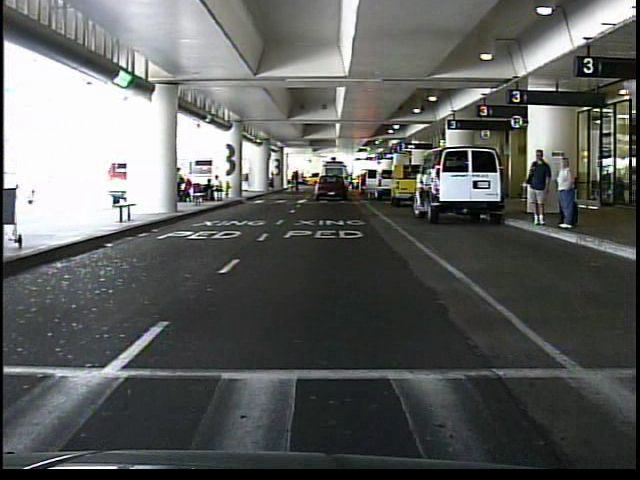person: (522, 145, 551, 230), (553, 153, 579, 233), (267, 168, 279, 193), (346, 169, 357, 194)
